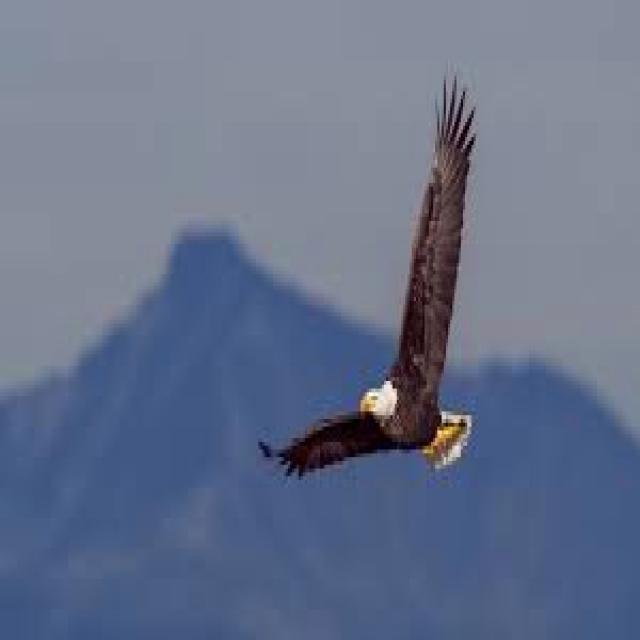eagle: (260, 80, 474, 472)
